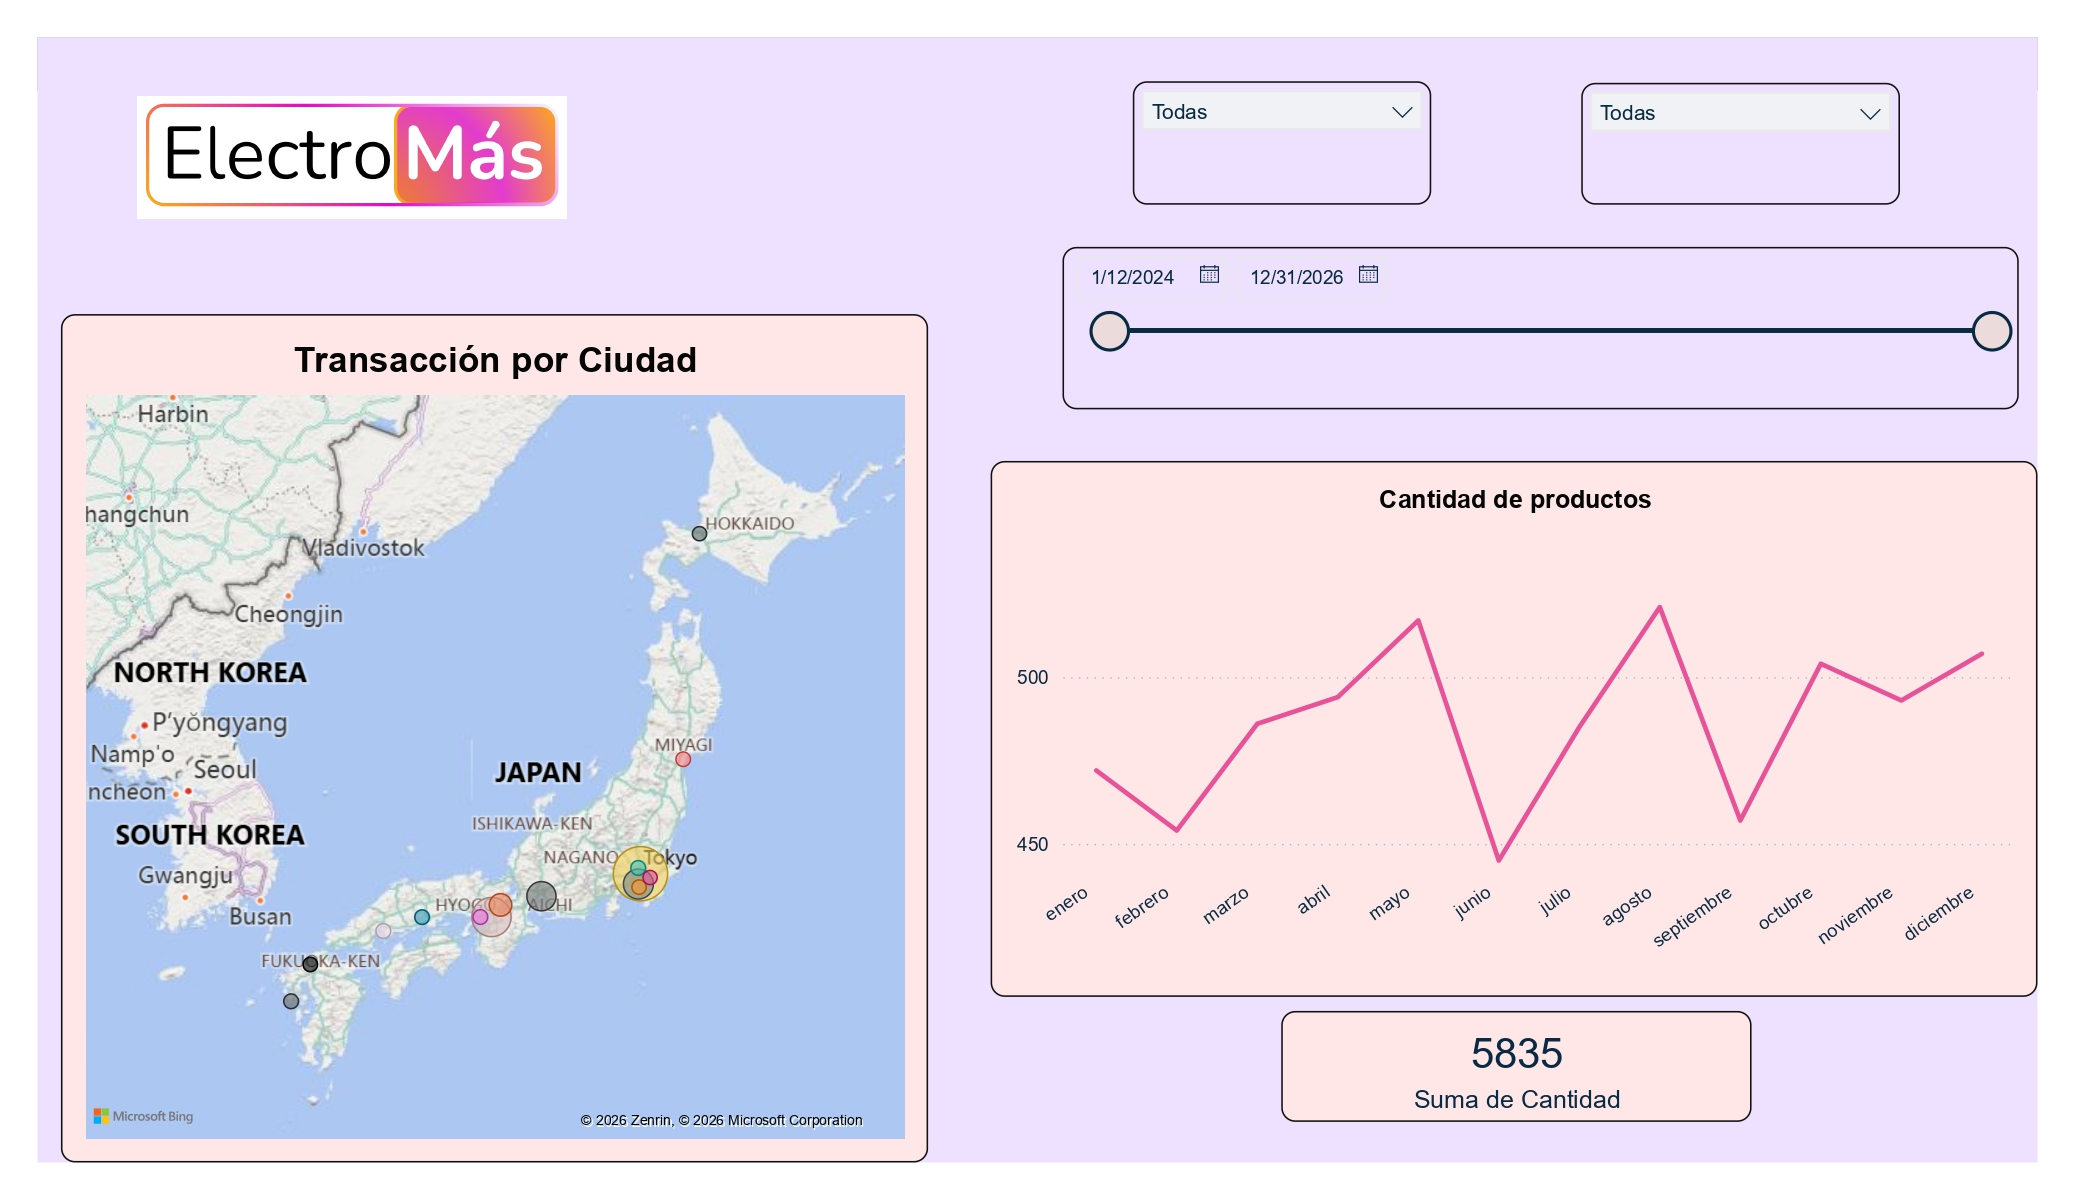

The page's visual inventory and layout, read from the dashboard file:
{"tool":"powerbi","page":{"name":"Distribución geográfica y temporal","canvas":[1280,720],"ordinal":0},"visuals":[{"type":"map","title":"Transacción por Ciudad","fields":{"Y":["Ciudades1.Latitud"],"X":["Ciudades1.Longitud"],"Size":["Sum(Transacciones.Transaccion)"],"Series":["Transacciones.ID_Ciudad"]},"box":[0,0,610.2,720.2],"z":0},{"type":"slicer","fields":{"Values":["Ciudades1.Ciudad"]},"box":[851.1,29.3,190.8,78.3],"z":1000},{"type":"slicer","fields":{"Values":["Categorias.Categoría"]},"box":[1041.9,29.3,190.8,78.3],"z":2000},{"type":"lineChart","title":"Cantidad de productos","fields":{"Category":["Transacciones.Fecha_hora.Variación.Jerarquía de fechas.Año","Transacciones.Fecha_hora.Variación.Jerarquía de fechas.Trimestre","Transacciones.Fecha_hora.Variación.Jerarquía de fechas.Mes"],"Y":["Sum(Transacciones.Cantidad)"]},"box":[610.5,271.4,669.6,342.6],"z":3000},{"type":"slicer","fields":{"Values":["Transacciones.Fecha_hora"]},"box":[656.3,133.9,611.7,103.8],"z":4000},{"type":"card","fields":{"Values":["Sum(Transacciones.Cantidad)"]},"box":[796.3,622.5,300.4,71.2],"z":5000}]}

Visuals, with their boxes on the page's 1280x720 design canvas (x1, y1, x2, y2). These are canvas units, not pixel positions in the 2075x1200 screenshot, which may show the page scaled, cropped or inside an application window:
"Transacción por Ciudad" map: x1=0, y1=0, x2=610, y2=720
slicer - Ciudades1.Ciudad: x1=851, y1=29, x2=1042, y2=108
slicer - Categorias.Categoría: x1=1042, y1=29, x2=1233, y2=108
"Cantidad de productos" lineChart: x1=610, y1=271, x2=1280, y2=614
slicer - Transacciones.Fecha_hora: x1=656, y1=134, x2=1268, y2=238
card - Sum(Transacciones.Cantidad): x1=796, y1=622, x2=1097, y2=694
